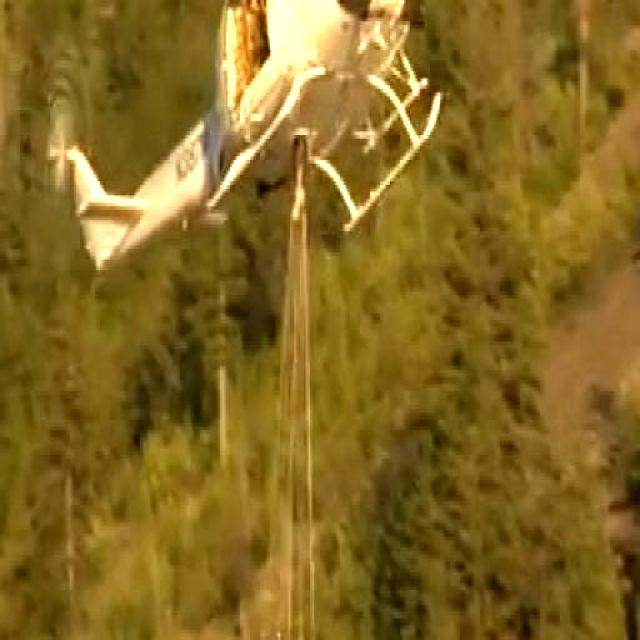drone: (44, 0, 454, 279)
